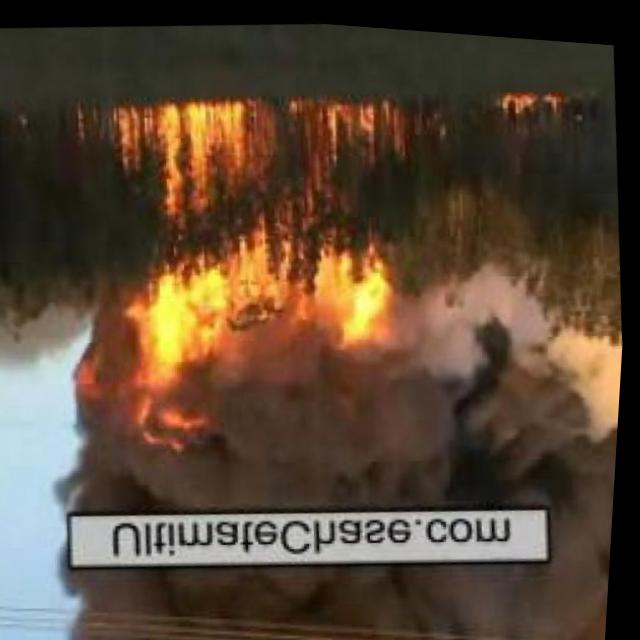Fire: (70, 72, 424, 470), (492, 79, 581, 117)
